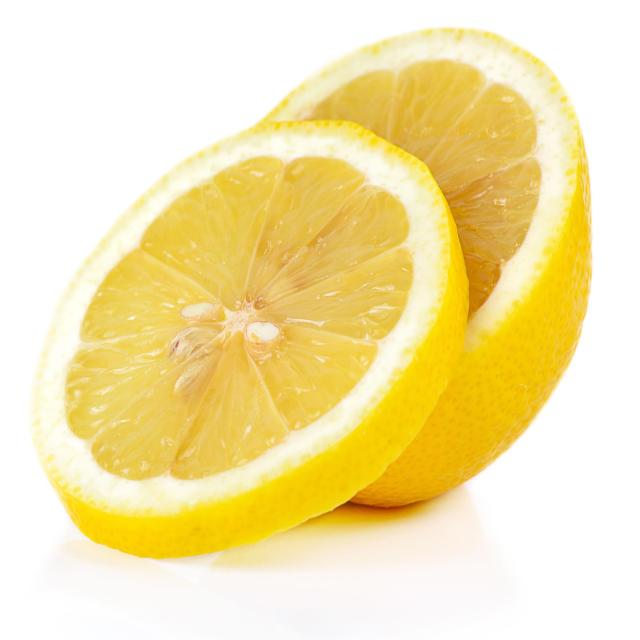lemon: (22, 17, 600, 567)
